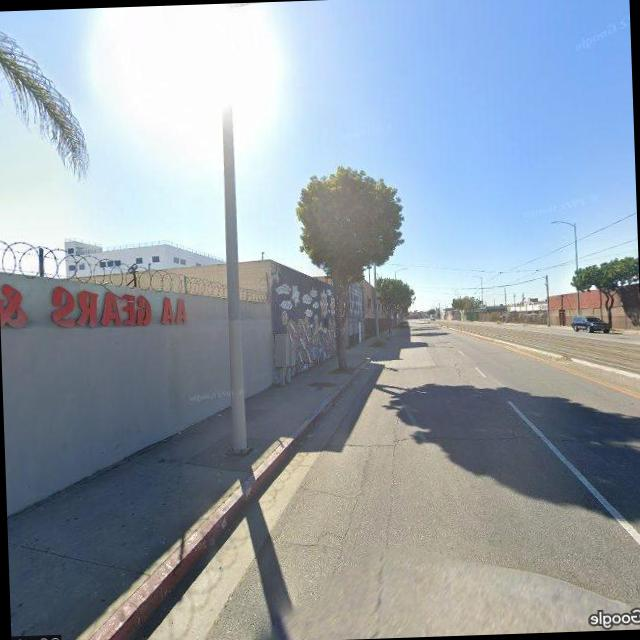crack: (318, 420, 608, 456), (373, 410, 409, 553), (304, 484, 361, 502)
